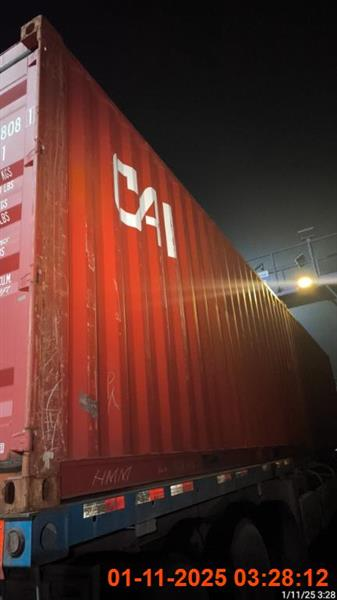broken: (1, 15, 335, 594)
